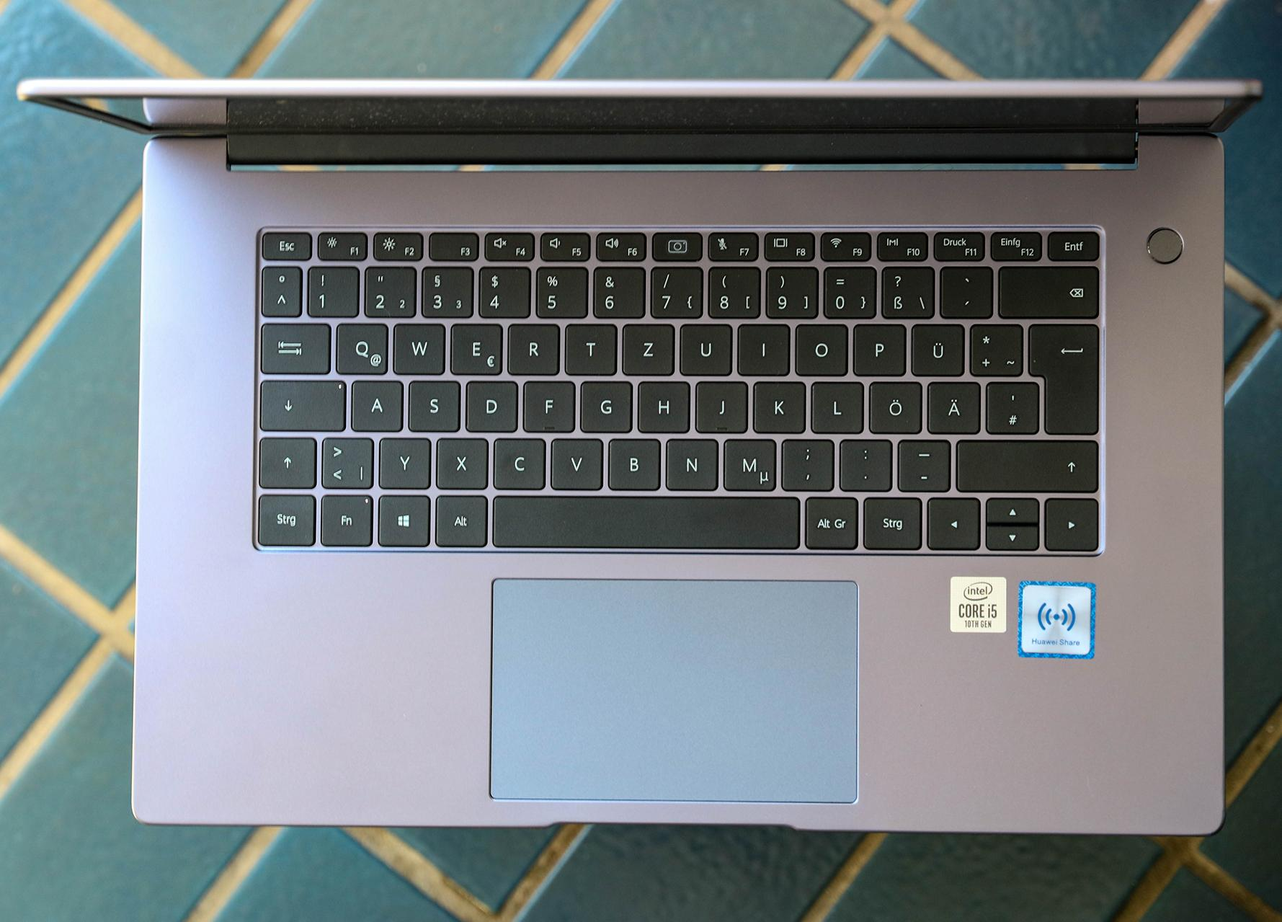0: (821, 263, 875, 317)
1: (306, 263, 358, 316)
2: (362, 263, 415, 316)
3: (418, 262, 472, 316)
4: (476, 263, 529, 316)
5: (533, 263, 586, 316)
6: (591, 263, 644, 316)
7: (649, 263, 701, 316)
8: (705, 263, 758, 317)
9: (763, 263, 816, 316)
a: (349, 377, 402, 430)
accent: (938, 262, 992, 316)
ae: (925, 378, 980, 433)
alt-left: (432, 492, 486, 546)
altgr-right: (802, 494, 858, 547)
b: (605, 435, 660, 489)
c: (491, 434, 546, 489)
caret: (259, 263, 302, 315)
comma: (778, 435, 832, 489)
d: (463, 378, 517, 431)
del: (996, 262, 1098, 316)
e: (448, 320, 502, 373)
enter: (1025, 319, 1099, 433)
f: (521, 377, 574, 430)
g: (577, 378, 631, 432)
h: (635, 378, 689, 431)
hash: (983, 378, 1038, 432)
i: (735, 320, 790, 373)
j: (693, 377, 747, 431)
k: (751, 377, 806, 432)
keyboard: (241, 219, 1121, 562)
l: (809, 378, 863, 432)
less: (319, 433, 373, 487)
m: (720, 435, 776, 489)
minus: (894, 436, 950, 489)
n: (663, 435, 718, 489)
o: (792, 320, 847, 374)
oe: (866, 378, 922, 433)
p: (851, 320, 905, 374)
plus: (967, 320, 1021, 374)
point: (837, 435, 891, 489)
q: (333, 319, 388, 373)
r: (505, 321, 559, 373)
s: (406, 377, 459, 430)
shift-left: (256, 434, 316, 487)
shift-lock: (257, 376, 344, 430)
shift-right: (953, 435, 1098, 490)
space: (489, 492, 799, 546)
ss: (878, 263, 932, 316)
strg-left: (254, 490, 315, 545)
strg-right: (860, 493, 922, 548)
t: (563, 320, 615, 373)
tab: (258, 319, 330, 373)
u: (677, 320, 732, 374)
ue: (909, 321, 963, 374)
v: (548, 435, 603, 489)
w: (391, 319, 445, 373)
x: (434, 434, 489, 487)
y: (376, 434, 431, 487)
z: (620, 320, 674, 373)
